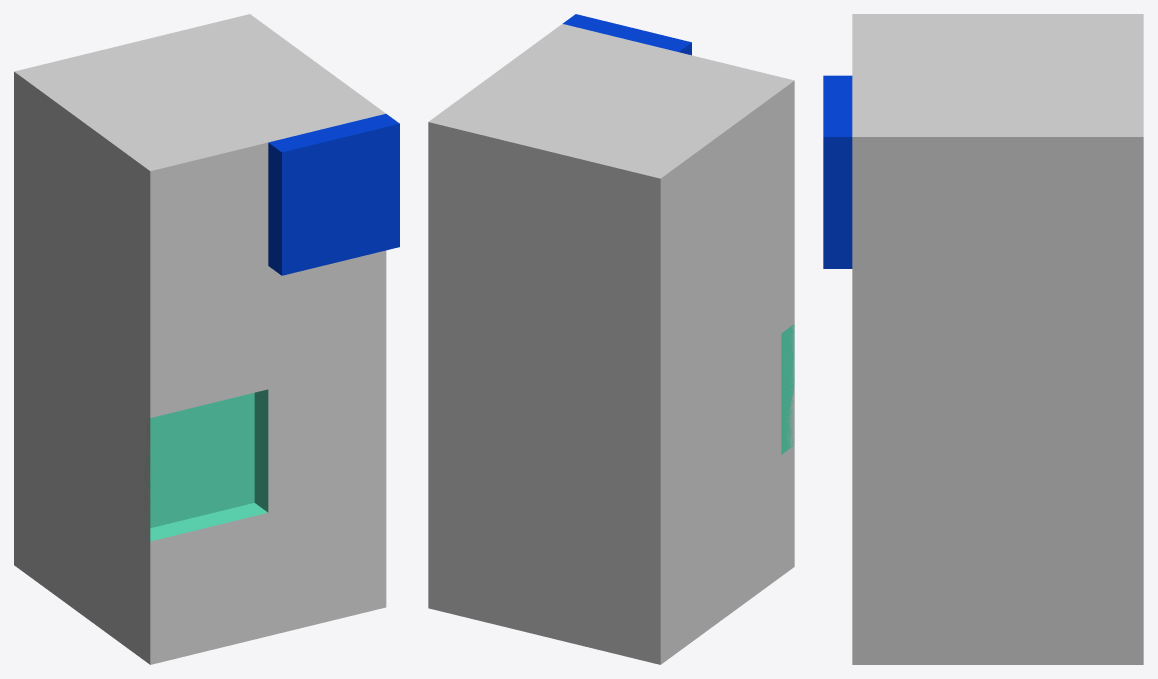
Rendered from Wall2_1x2.fbx.
3 views of the same model, side by side, from view 1: azimuth 30°, elevation 25°; view 2: azimuth 150°, elevation 25°; view 3: azimuth 270°, elevation 25° (orthographic). The views are drawn at different scales.
Visible parts, largest first — view 1: Wall2 1x2; view 2: Wall2 1x2; view 3: Wall2 1x2.
Boxes of the visible parts, left/top/right/bottom form: Wall2 1x2: left=14, top=14, right=399, bottom=664; Wall2 1x2: left=428, top=14, right=794, bottom=664; Wall2 1x2: left=823, top=14, right=1143, bottom=664.
Size of the model in its own units: 100 by 200 by 110.
